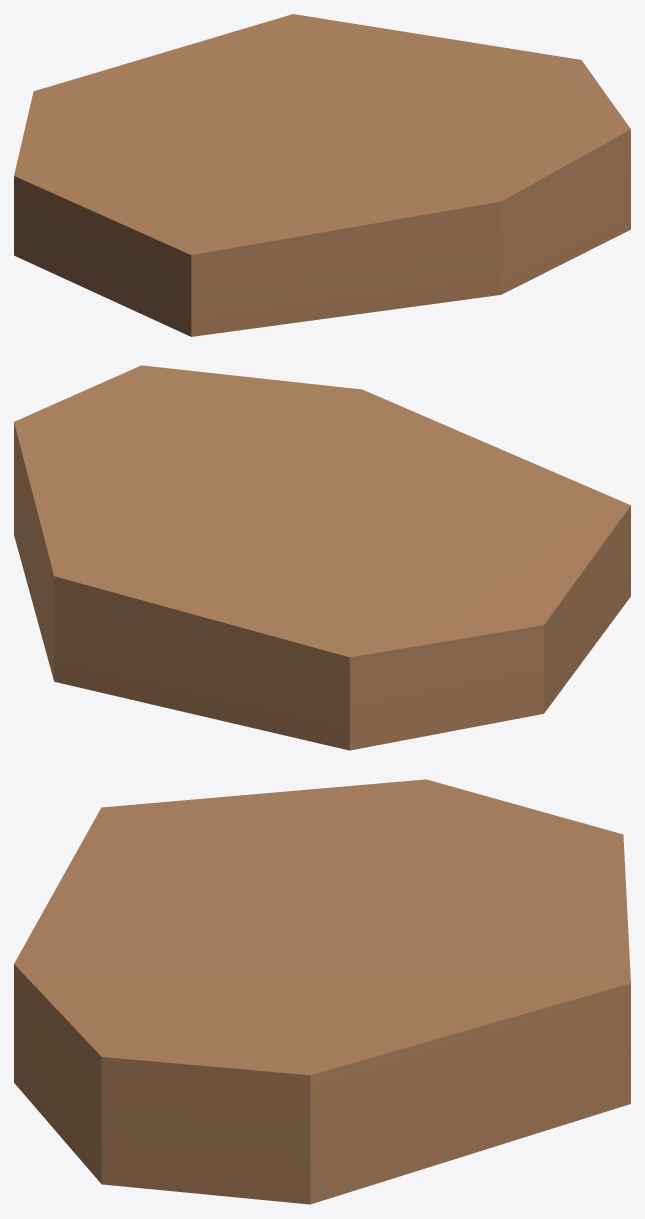
Rendered from stone flat brown 2.fbx.
3 views of the same model, one above another, from view 1: azimuth 30°, elevation 25°; view 2: azimuth 150°, elevation 25°; view 3: azimuth 270°, elevation 25° (orthographic). The views are drawn at different scales.
Parts seen in each view (by area): view 1: stone flat brown 2; view 2: stone flat brown 2; view 3: stone flat brown 2.
Boxes of the visible parts, box(x1,y1,x2,y2) form: stone flat brown 2: box(14, 14, 630, 336); stone flat brown 2: box(14, 365, 630, 750); stone flat brown 2: box(14, 779, 630, 1204).
Size of the model in its own units: 61.65 by 11.47 by 49.64.
